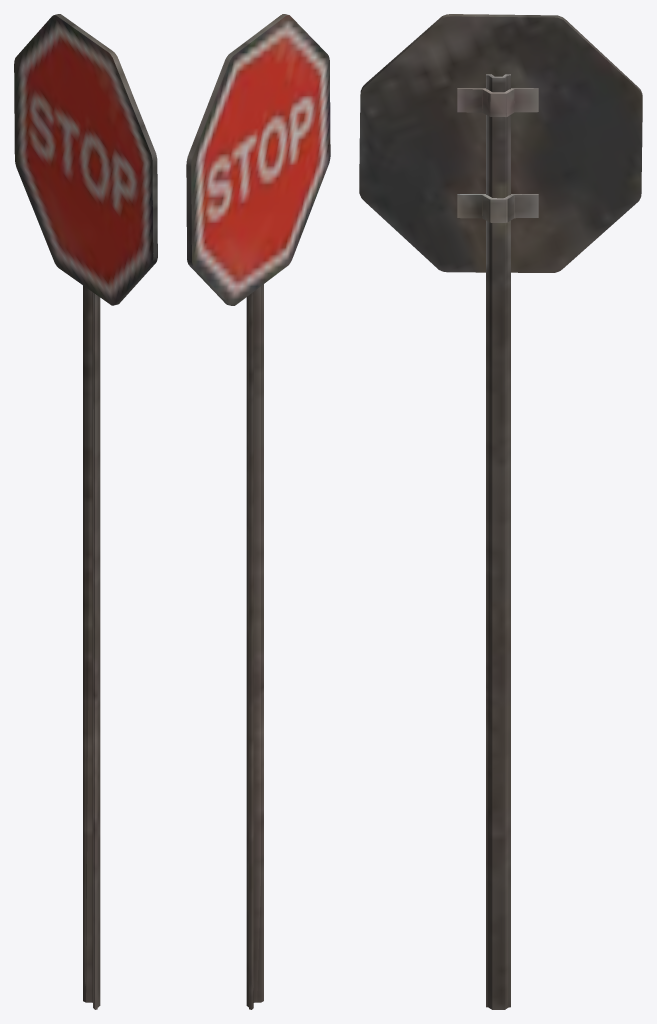
Rendered from sm_trafficsign01.glb.
3 views of the same model, side by side, from view 1: azimuth 30°, elevation 25°; view 2: azimuth 150°, elevation 25°; view 3: azimuth 270°, elevation 25° (orthographic).
Parts seen in each view (by area): view 1: sm_trafficsign01_01, sm_trafficsign01_00; view 2: sm_trafficsign01_01, sm_trafficsign01_00; view 3: sm_trafficsign01_00, sm_trafficsign01_01.
Part boxes in pixels (x1,y1,x2,y2): sm_trafficsign01_01: [14, 14, 157, 1009]; sm_trafficsign01_00: [14, 14, 157, 1009]; sm_trafficsign01_01: [186, 15, 330, 1009]; sm_trafficsign01_00: [186, 14, 330, 1009]; sm_trafficsign01_00: [359, 14, 642, 1009]; sm_trafficsign01_01: [363, 14, 641, 1009].
Bounding box in the file's own units: 0.0316 × 1.84 × 0.4773.
1 material, 1 textured.
